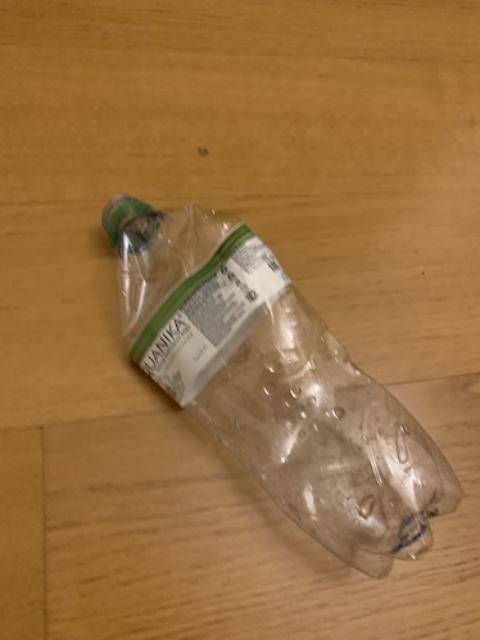plastic: (102, 194, 460, 574)
